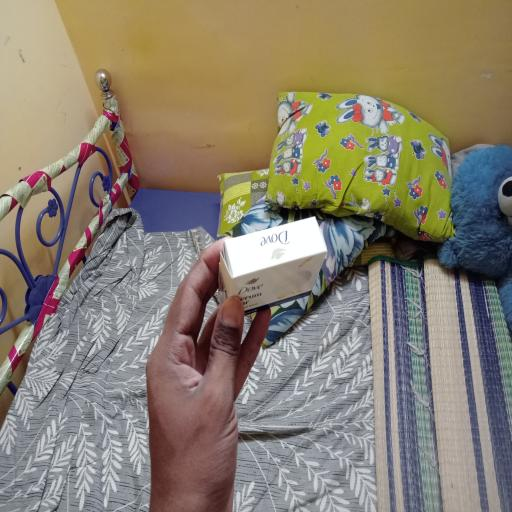Dove`1: (206, 212, 340, 323)
